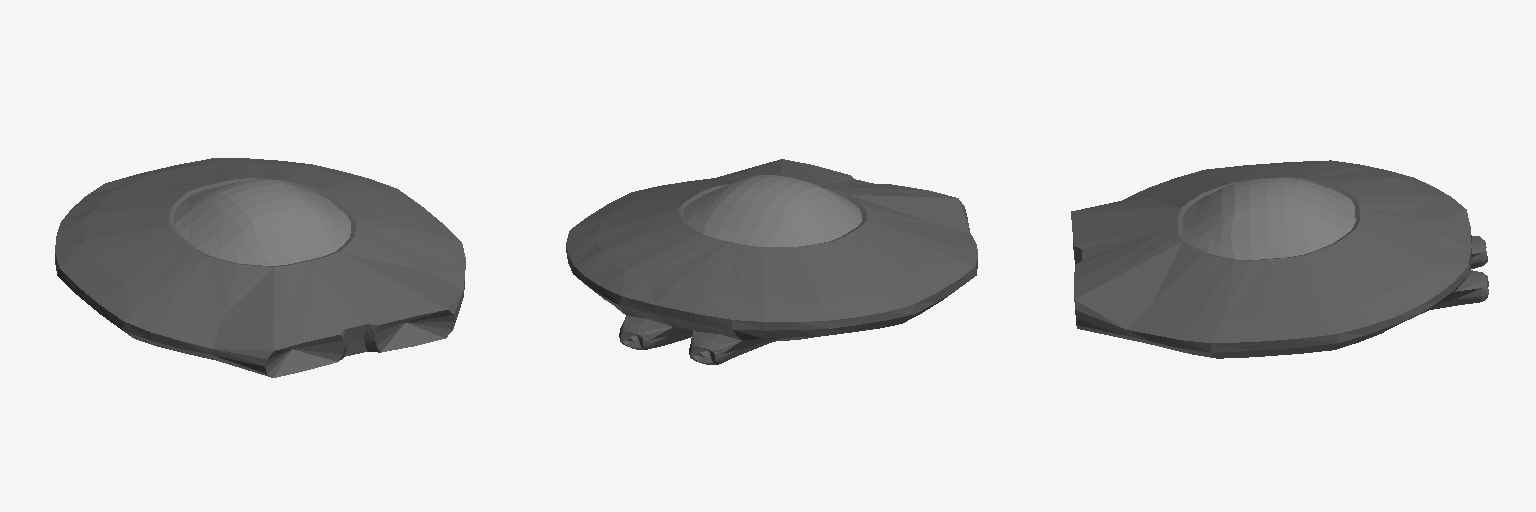
The model's file is new-saucer.obj.
3 views of the same model, side by side, from view 1: azimuth 30°, elevation 25°; view 2: azimuth 150°, elevation 25°; view 3: azimuth 270°, elevation 25° (orthographic).
Visible parts, largest first — view 1: Mesh_Mesh_Cylinder; view 2: Mesh_Mesh_Cylinder; view 3: Mesh_Mesh_Cylinder.
Boxes of the visible parts, x1=… form: Mesh_Mesh_Cylinder: x1=55, y1=158, x2=465, y2=377; Mesh_Mesh_Cylinder: x1=566, y1=159, x2=977, y2=364; Mesh_Mesh_Cylinder: x1=1071, y1=160, x2=1488, y2=358.
Bounding box in the file's own units: 4.15 × 1.54 × 4.31.